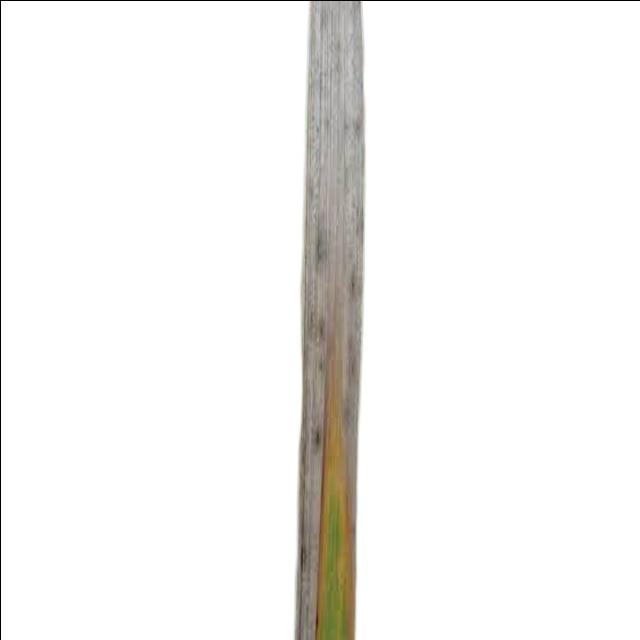Leaf scald: (156, 0, 434, 640)
